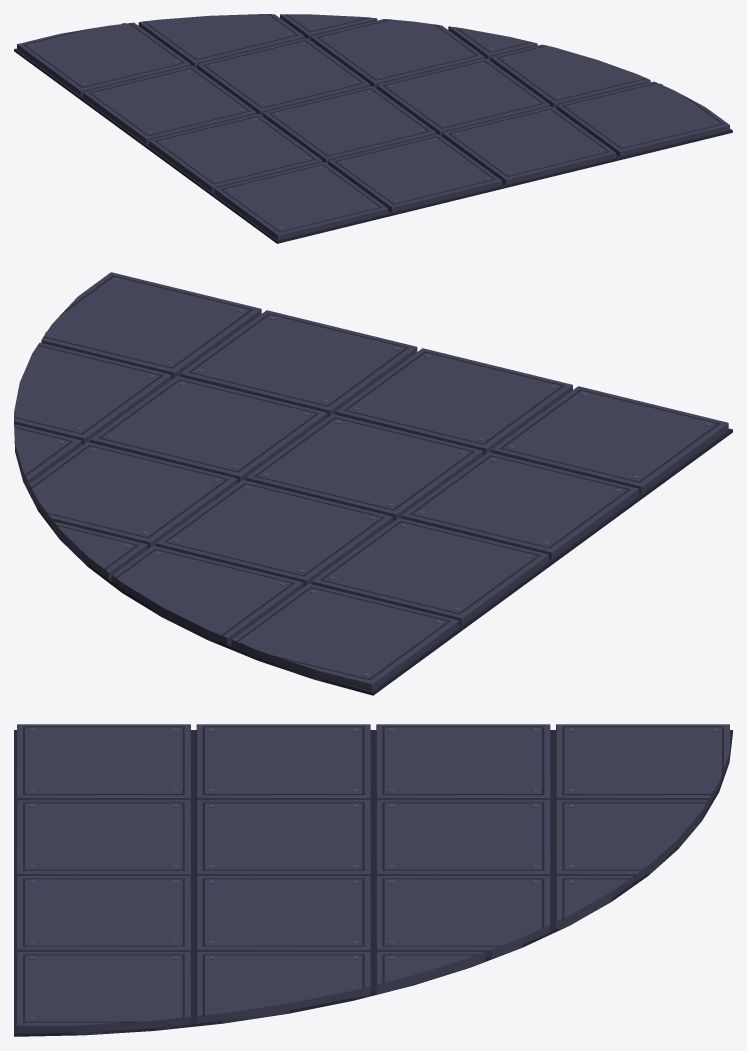
The model's file is floor.arc4.plate.glb.
3 views of the same model, one above another, from view 1: azimuth 30°, elevation 25°; view 2: azimuth 150°, elevation 25°; view 3: azimuth 270°, elevation 25° (orthographic). The views are drawn at different scales.
Visible parts, largest first — view 1: GEO-floor.arc4.plate; view 2: GEO-floor.arc4.plate; view 3: GEO-floor.arc4.plate.
Part boxes in pixels (left/top/right/bottom): GEO-floor.arc4.plate: left=14, top=14, right=732, bottom=243; GEO-floor.arc4.plate: left=14, top=272, right=732, bottom=695; GEO-floor.arc4.plate: left=14, top=724, right=732, bottom=1036.
Bounding box in the file's own units: 4 × 0.069 × 4.
